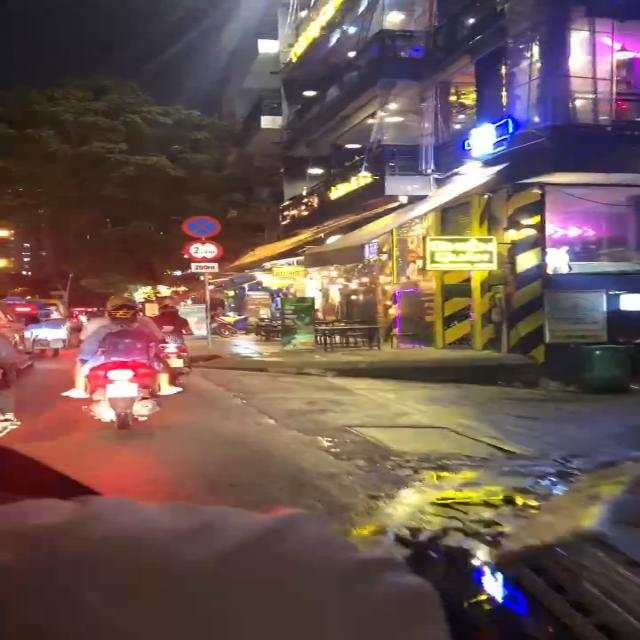Bien bao cam dung xe va do xe: (180, 212, 226, 240)
Bien bao han che chieu cao: (180, 240, 227, 262)
